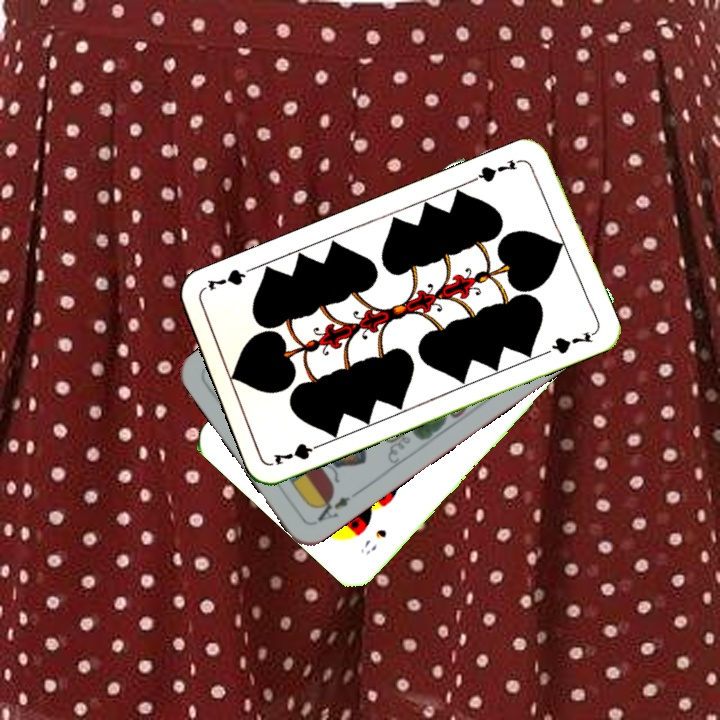EA: (309, 487, 362, 527)
G7: (269, 438, 328, 468), (469, 154, 526, 185)
S8: (356, 525, 389, 558)
